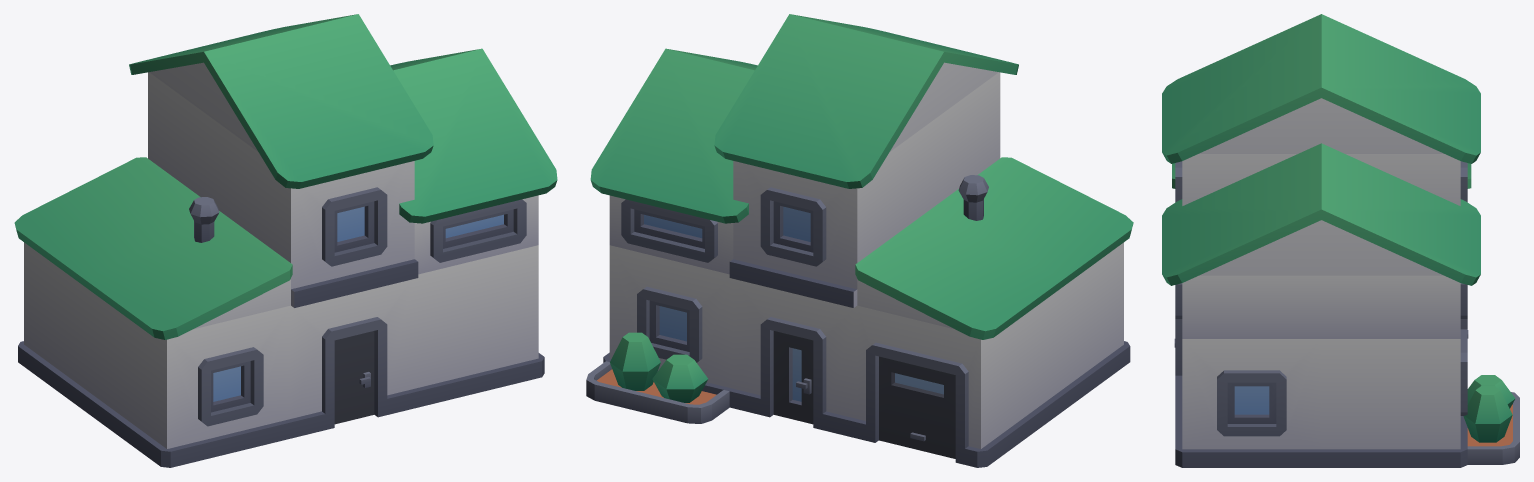
The model's file is building-type-c-high.glb.
3 renders of one model, left to right at view 1: azimuth 30°, elevation 25°; view 2: azimuth 150°, elevation 25°; view 3: azimuth 270°, elevation 25°, orthographic. The views are drawn at different scales.
Bounding box in the file's own units: 1.29 × 1.03 × 1.03.
